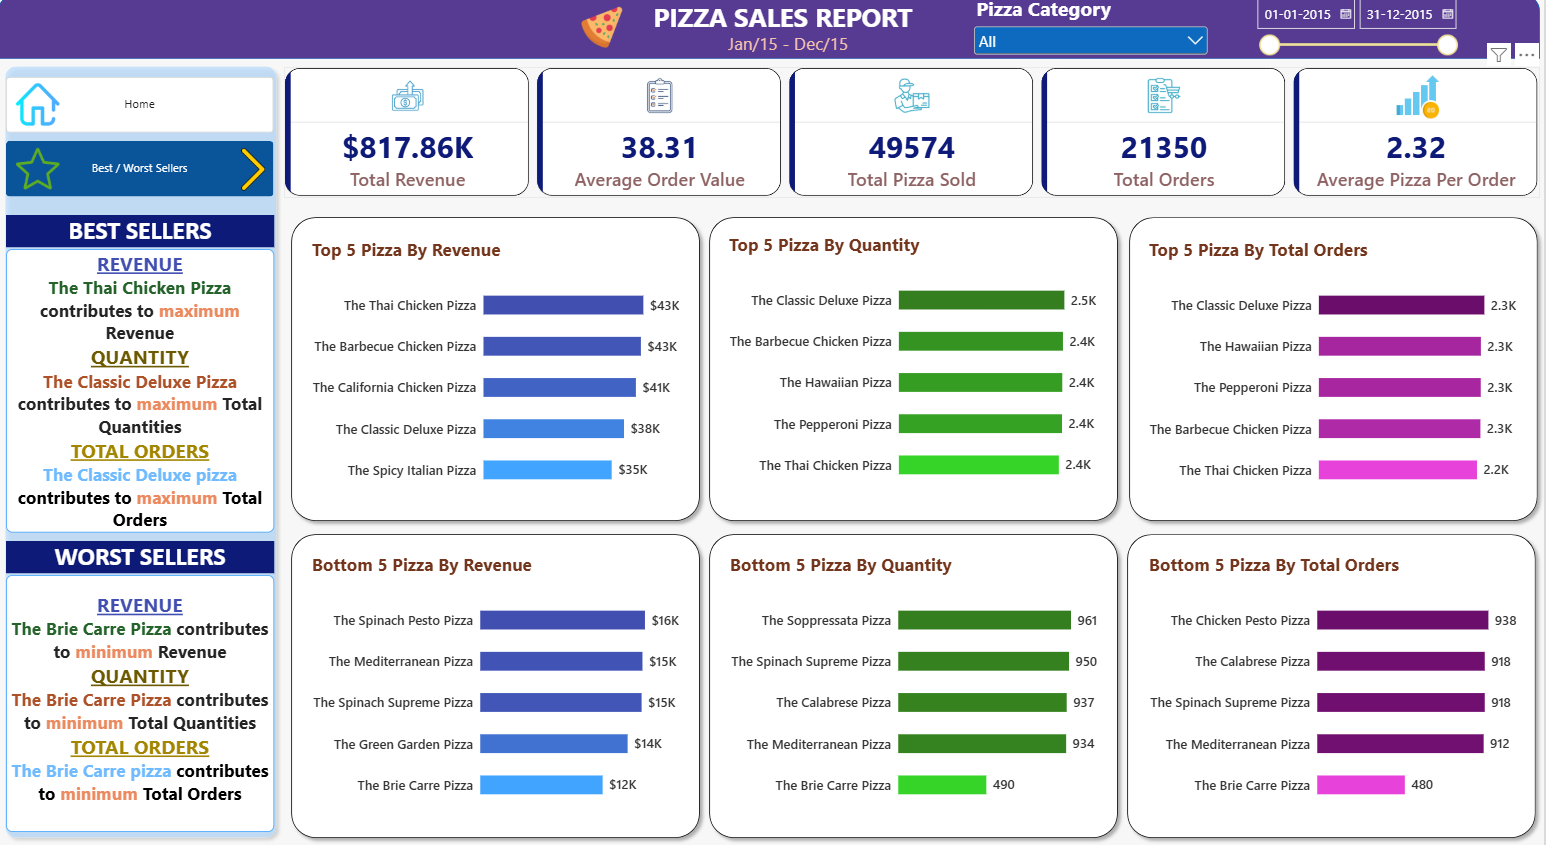

This screenshot's page, from the dashboard's own definition file:
{"tool":"powerbi","page":{"name":"Best / Worst Sellers","canvas":[1920,1080],"ordinal":1},"visuals":[{"type":"shape","box":[0,79.4,354.6,975.4],"z":0},{"type":"textbox","box":[10,0,280,280],"z":1000},{"type":"shape","box":[0,0,1914.1,79.4],"z":2000},{"type":"textbox","box":[800,4.4,350.2,46.7],"z":3000},{"type":"image","box":[714.9,13.1,68.6,52.5],"z":4000},{"type":"cardVisual","fields":{"Data":["KPIS.Total Revenue","KPIS.Average Order Value","KPIS.Total Pizza Sold","KPIS.Total Orders","KPIS.Average Pizza Per Order"]},"box":[354.6,89.7,1559.5,161.8],"z":5000},{"type":"shape","box":[354.6,266.3,525.2,395],"z":6000},{"type":"textbox","box":[906.3,44.1,300.1,39.7],"z":7000},{"type":"textbox","box":[10.3,273.7,332.5,39.7],"z":8000},{"type":"textbox","box":[10.3,314.9,332.5,351.6],"z":9000},{"type":"textbox","box":[10.3,678.3,332.5,39.7],"z":10000},{"type":"textbox","box":[10.3,719.4,332.5,319.3],"z":11000},{"type":"slicer","fields":{"Values":["pizza_sales.pizza_category"]},"box":[1206.4,0,300.1,79.4],"z":12000},{"type":"slicer","fields":{"Values":["pizza_sales.order_date"]},"box":[1555.1,0,260.4,79.4],"z":13000},{"type":"shape","box":[873.9,266.3,525.2,395],"z":14000},{"type":"shape","box":[1394.8,266.3,525,395],"z":15000},{"type":"shape","box":[354.6,660.6,525.2,395],"z":16000},{"type":"shape","box":[873.9,660.6,525.2,395],"z":17000},{"type":"shape","box":[1393.3,660.6,525,395],"z":18000},{"type":"barChart","title":"Top 5 Pizza By Revenue","fields":{"Category":["pizza_sales.pizza_name"],"Y":["KPIS.Total Revenue"]},"box":[373.7,286.9,488.5,353.1],"z":19000},{"type":"barChart","title":"Bottom 5 Pizza By Revenue","fields":{"Category":["pizza_sales.pizza_name"],"Y":["KPIS.Total Revenue"]},"box":[373.7,678.3,488.5,353.1],"z":20000},{"type":"barChart","title":"Top 5 Pizza By Quantity","fields":{"Category":["pizza_sales.pizza_name"],"Y":["KPIS.Total Pizza Sold"]},"box":[891.7,280.5,488.5,353.1],"z":21000},{"type":"barChart","title":"Bottom 5 Pizza By Quantity","fields":{"Category":["pizza_sales.pizza_name"],"Y":["KPIS.Total Pizza Sold"]},"box":[893.1,678.3,488.5,353.1],"z":22000},{"type":"barChart","title":"Top 5 Pizza By Total Orders","fields":{"Category":["pizza_sales.pizza_name"],"Y":["KPIS.Total Orders"]},"box":[1412.4,286.9,488.5,353.1],"z":23000},{"type":"barChart","title":"Bottom 5 Pizza By Total Orders","fields":{"Category":["pizza_sales.pizza_name"],"Y":["KPIS.Total Orders"]},"box":[1412.4,678.3,488.5,353.1],"z":24000},{"type":"pageNavigator","box":[10.3,101.5,332.5,69.1],"z":24001},{"type":"pageNavigator","box":[10.3,181,332.5,69.1],"z":24002},{"type":"image","box":[289.8,189.8,54.4,53],"z":24003},{"type":"image","box":[22.1,104.5,54.4,63.3],"z":24004},{"type":"image","box":[22.1,157.4,54.4,116.2],"z":24005}]}

Visuals, with their boxes in screenshot pixels (x1, y1, x2, y2), scaled from the page's 1920x1080 canvas onto the 1546x845 screenshot:
shape: (0,62,286,825)
textbox: (8,0,234,219)
shape: (0,0,1541,62)
textbox: (644,3,926,40)
image: (576,10,631,51)
cardVisual - KPIS.Total Revenue x KPIS.Average Order Value: (286,70,1541,197)
shape: (286,208,708,517)
textbox: (730,35,971,66)
textbox: (8,214,276,245)
textbox: (8,246,276,521)
textbox: (8,531,276,562)
textbox: (8,563,276,813)
slicer - pizza_sales.pizza_category: (971,0,1213,62)
slicer - pizza_sales.order_date: (1252,0,1462,62)
shape: (704,208,1127,517)
shape: (1123,208,1545,517)
shape: (286,517,708,826)
shape: (704,517,1127,826)
shape: (1122,517,1545,826)
"Top 5 Pizza By Revenue" barChart: (301,224,694,501)
"Bottom 5 Pizza By Revenue" barChart: (301,531,694,807)
"Top 5 Pizza By Quantity" barChart: (718,219,1111,496)
"Bottom 5 Pizza By Quantity" barChart: (719,531,1112,807)
"Top 5 Pizza By Total Orders" barChart: (1137,224,1531,501)
"Bottom 5 Pizza By Total Orders" barChart: (1137,531,1531,807)
pageNavigator: (8,79,276,133)
pageNavigator: (8,142,276,196)
image: (233,149,277,190)
image: (18,82,62,131)
image: (18,123,62,214)
